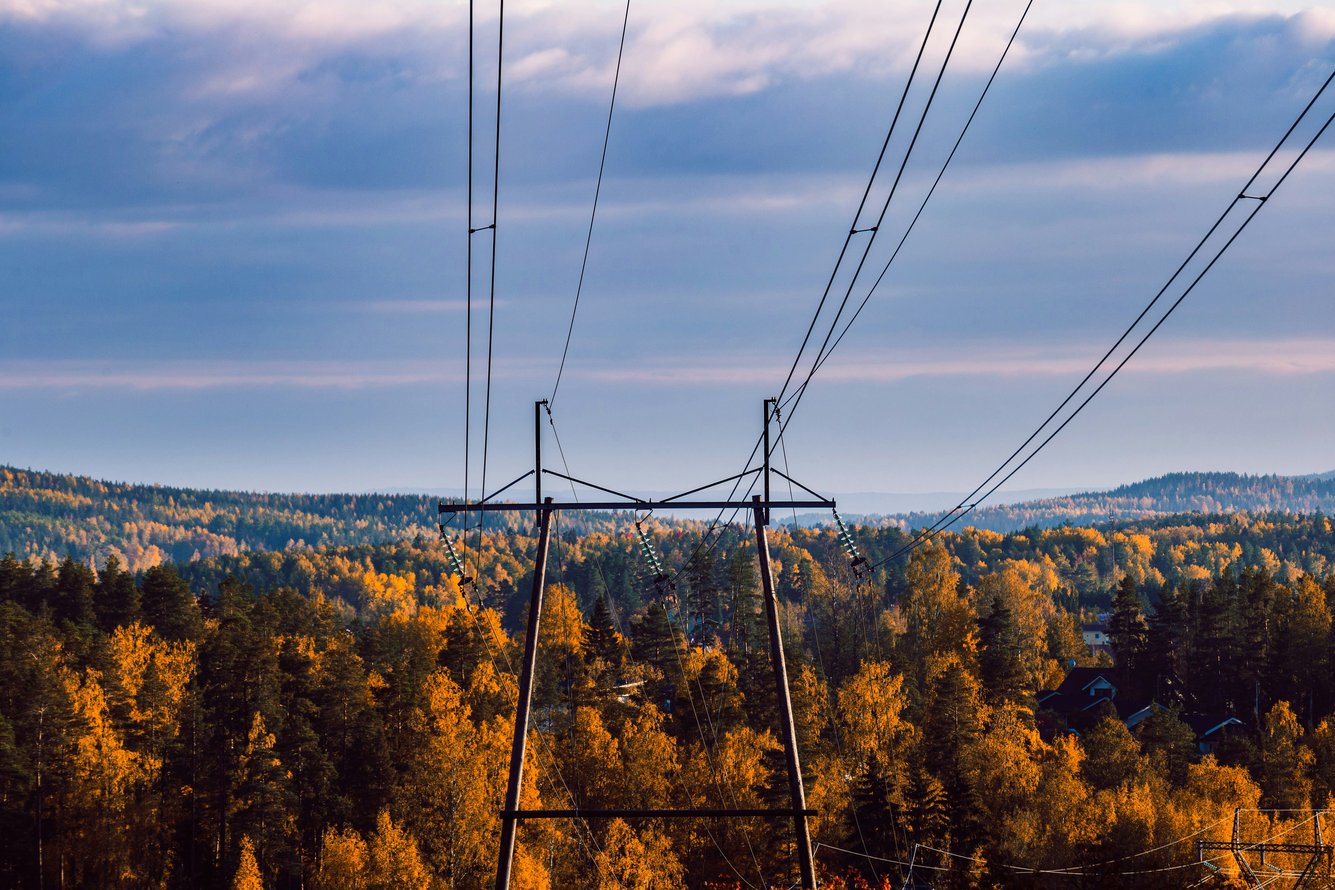insulator: (826, 506, 866, 568), (629, 521, 667, 583), (435, 527, 471, 588)
